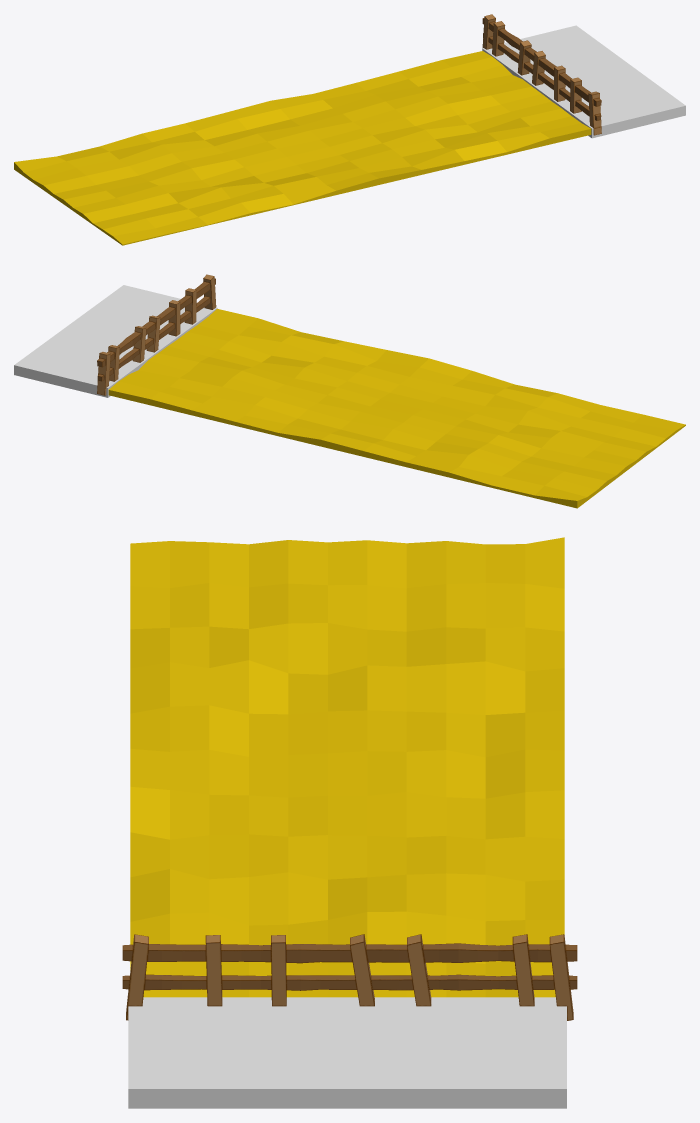
Rendered from Play Area2.fbx.
3 views of the same model, one above another, from view 1: azimuth 30°, elevation 25°; view 2: azimuth 150°, elevation 25°; view 3: azimuth 270°, elevation 25° (orthographic). The views are drawn at different scales.
Visible parts, largest first — view 1: TheGround, Flooring, Fence.001; view 2: TheGround, Flooring, Fence.001; view 3: TheGround, Flooring, Fence.001.
Part boxes in pixels (x1,y1,x2,y2): TheGround: (14,51,591,245); Flooring: (482,25,685,138); Fence.001: (482,14,601,135); TheGround: (108,309,685,508); Flooring: (14,285,217,397); Fence.001: (97,274,216,395); TheGround: (130,537,564,997); Flooring: (128,997,566,1108); Fence.001: (122,934,577,1020).
Bounding box in the file's own units: 2993 × 214 × 1047.
